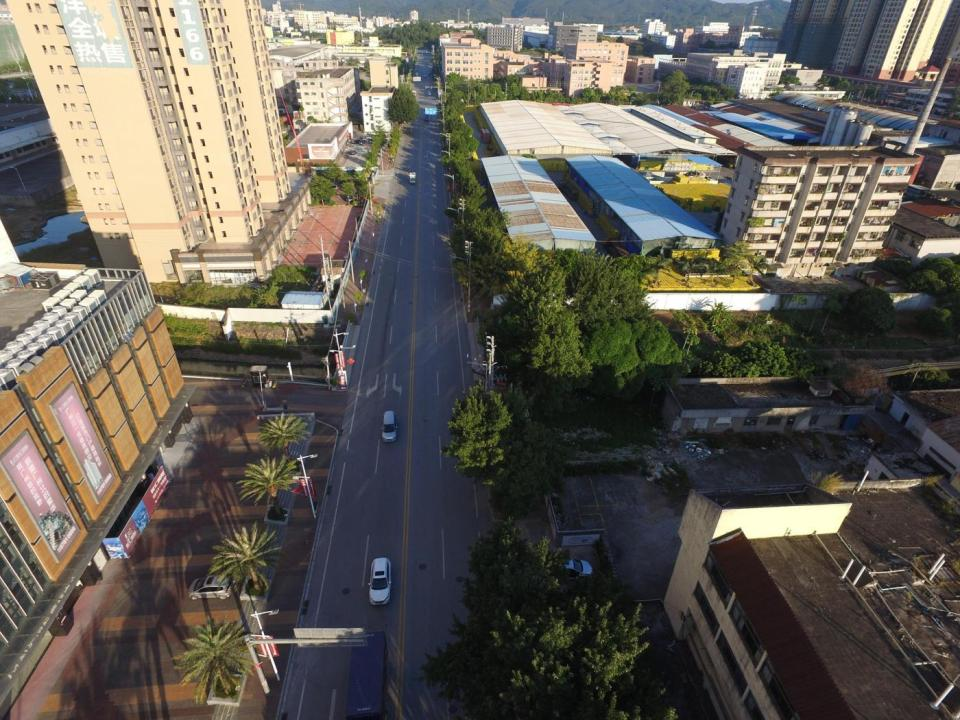car: (364, 557, 394, 605), (544, 554, 593, 582), (188, 574, 232, 600), (377, 409, 399, 445), (346, 193, 353, 202)
truck: (344, 628, 390, 720), (409, 171, 417, 184), (422, 110, 430, 121)
